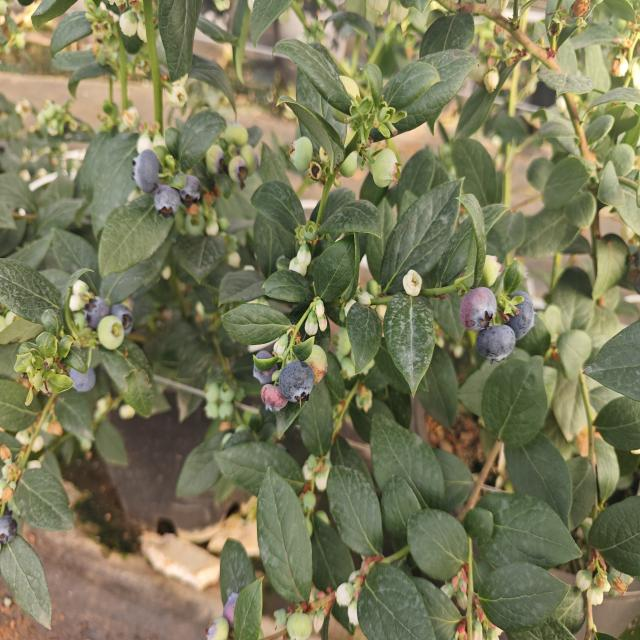ripe: (456, 284, 498, 335), (473, 322, 518, 368), (215, 587, 257, 635), (276, 357, 316, 407), (507, 286, 538, 342), (130, 147, 162, 198), (107, 301, 144, 343), (64, 356, 99, 400), (151, 186, 180, 228), (84, 290, 111, 333), (0, 508, 22, 558), (180, 171, 209, 206), (252, 346, 277, 386)
